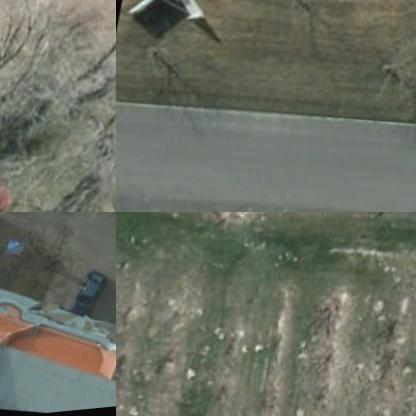car: (66, 270, 108, 322)
